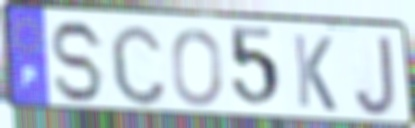5: (227, 25, 284, 116)
C: (107, 21, 169, 108)
J: (352, 33, 398, 119)
K: (290, 31, 339, 115)
O: (170, 26, 225, 109)
S: (49, 18, 107, 106)
